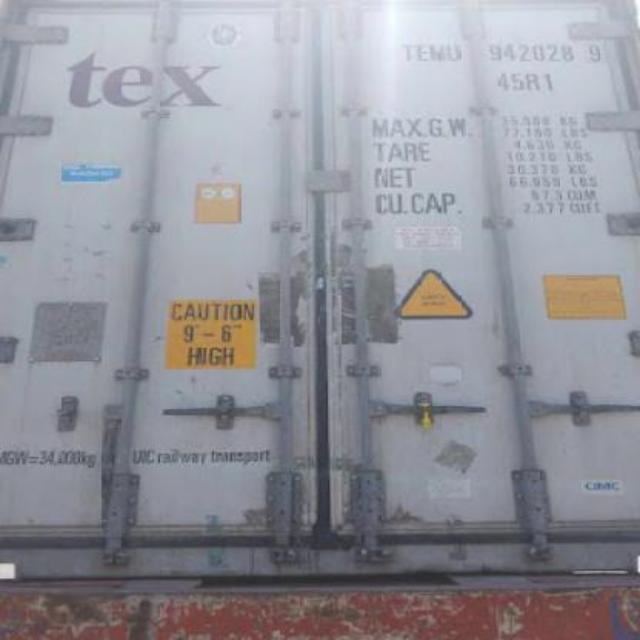0: (532, 44, 546, 60)
2: (548, 42, 560, 64), (518, 42, 530, 62)
4: (506, 42, 518, 62)
8: (562, 42, 576, 62)
9: (584, 40, 606, 64), (488, 42, 502, 62)
E: (414, 42, 430, 62)
M: (430, 42, 448, 64)
T: (400, 41, 416, 64)
U: (444, 40, 464, 64)
